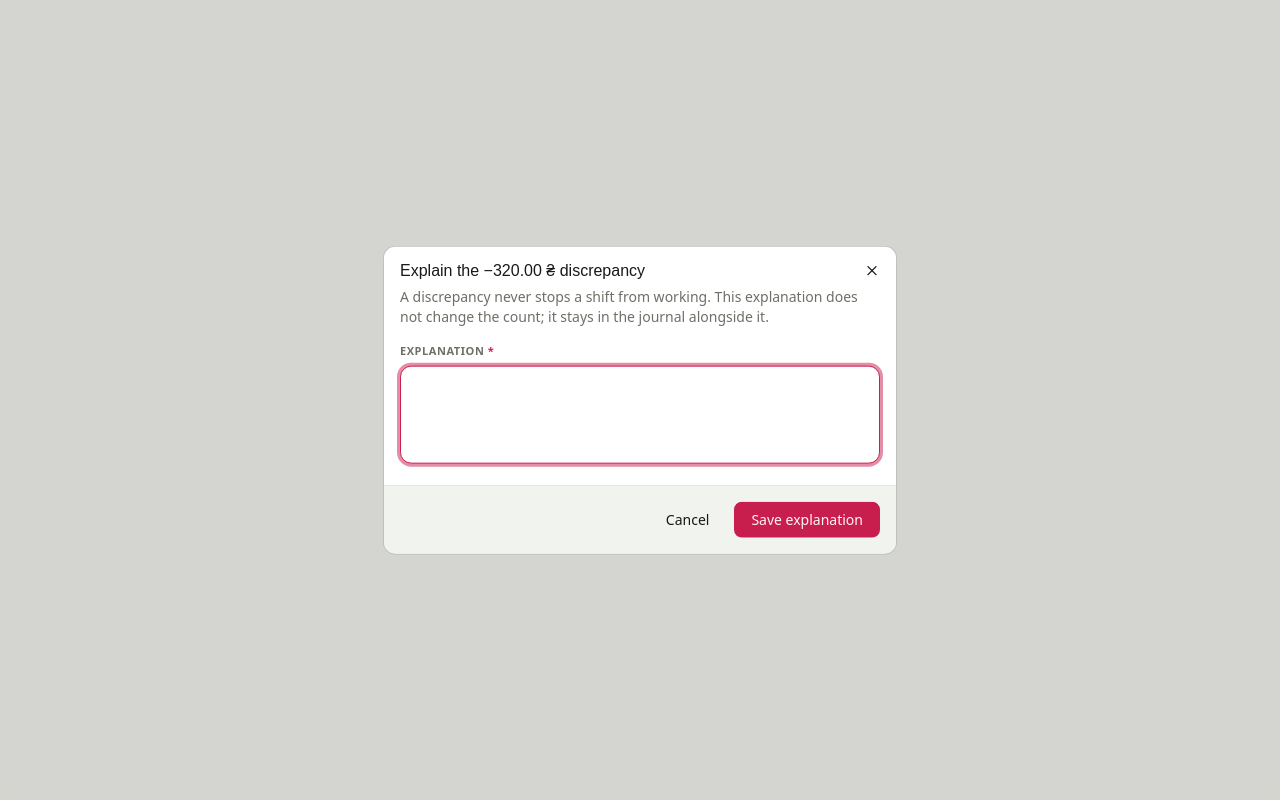
Test: ExplainDiscrepancyDialog › shows the mapped banner and stays open when the server refuses
Type "причина" into the text box labelled "Explanation" at (640, 414), box x1=400 y1=365 x2=880 y2=463
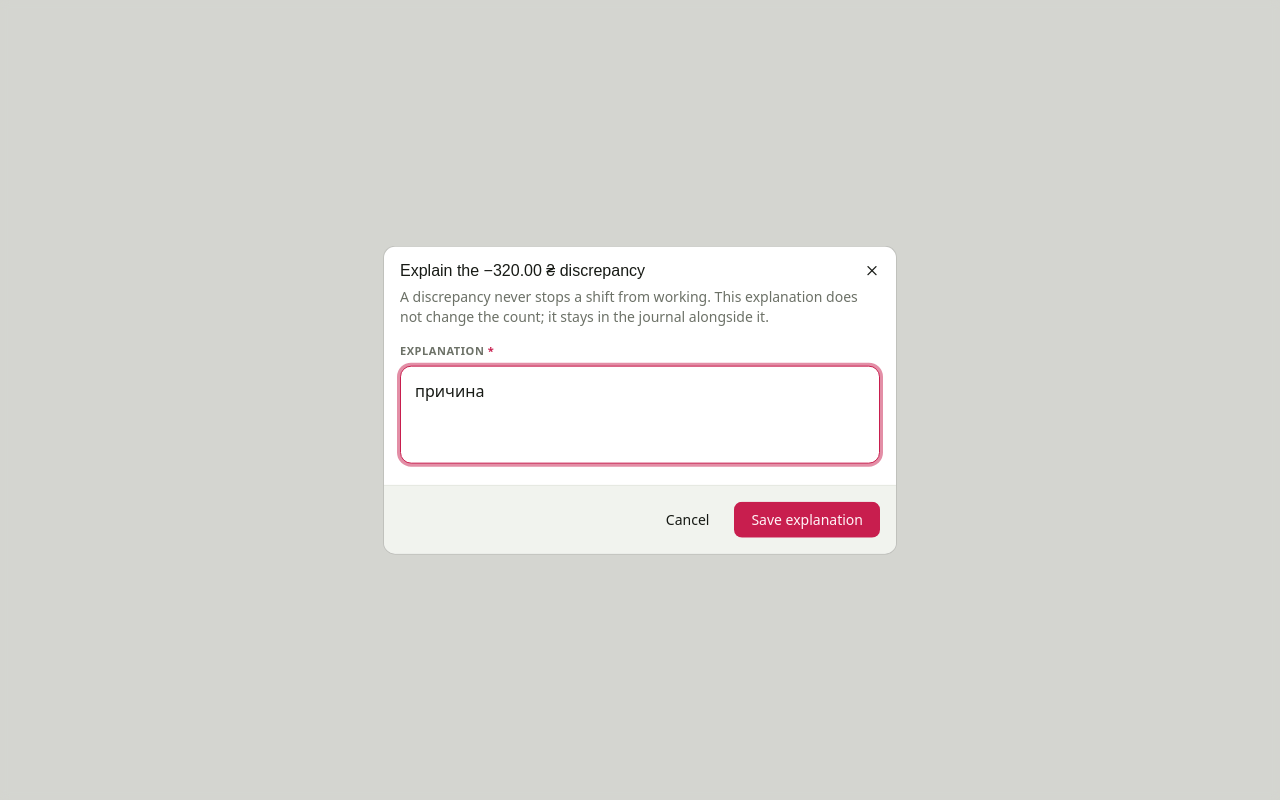
Click the button "Save explanation" at (807, 519), box x1=734 y1=501 x2=880 y2=537
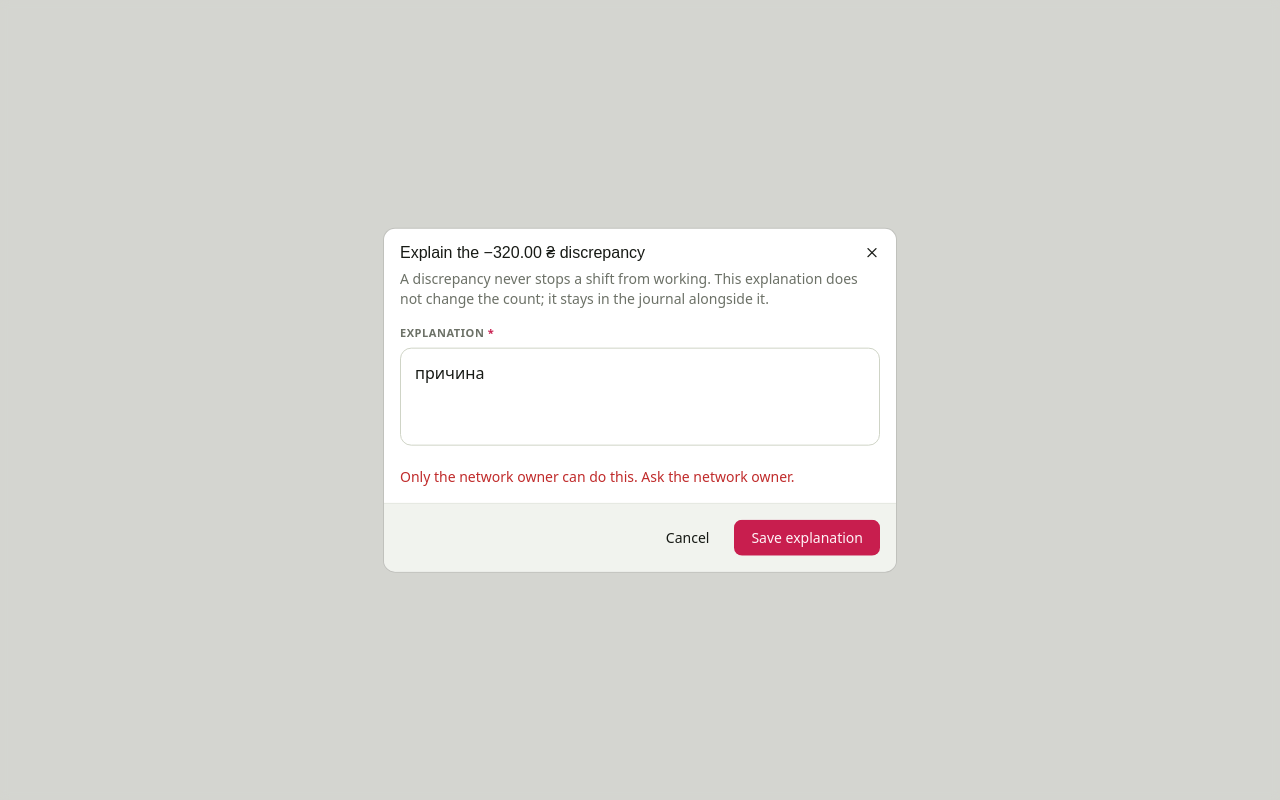
expect the text "Only the network owner can do this. Ask the network owner." is shown: met, box x1=400 y1=466 x2=794 y2=485
